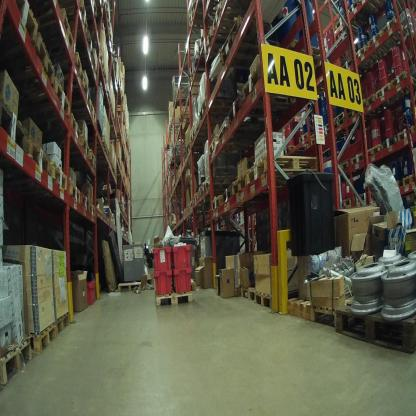pallet: (336, 295, 412, 358), (241, 61, 307, 112), (245, 151, 325, 191), (4, 31, 61, 87), (220, 28, 288, 74), (227, 88, 296, 130), (217, 8, 269, 55), (11, 79, 73, 118), (1, 318, 33, 392), (40, 4, 78, 59), (218, 117, 277, 151), (1, 95, 29, 158), (1, 1, 40, 44), (202, 28, 234, 74), (31, 307, 59, 359), (207, 132, 265, 157), (188, 120, 231, 151), (308, 292, 339, 334), (207, 0, 245, 34), (55, 48, 87, 88), (41, 113, 84, 142), (353, 42, 389, 75), (373, 82, 410, 110), (24, 136, 49, 177), (280, 291, 313, 322), (363, 28, 395, 59), (197, 98, 237, 122), (71, 94, 99, 128), (380, 15, 407, 48), (336, 14, 366, 43), (157, 289, 194, 311), (391, 69, 415, 102), (46, 158, 67, 193), (203, 173, 235, 195), (60, 134, 90, 157), (347, 1, 383, 20), (361, 84, 382, 115), (85, 52, 103, 85), (64, 169, 80, 206), (62, 2, 88, 24), (233, 169, 250, 202), (398, 165, 416, 196), (341, 57, 367, 78), (57, 310, 75, 340), (363, 135, 383, 162), (190, 3, 207, 33), (254, 289, 275, 313), (187, 67, 211, 86), (382, 132, 399, 158), (397, 122, 415, 146), (76, 29, 95, 51), (238, 278, 255, 302), (89, 137, 107, 158), (283, 145, 310, 159), (345, 106, 360, 130), (195, 41, 206, 73), (223, 185, 236, 212), (337, 154, 350, 179), (351, 148, 366, 169), (79, 188, 90, 215), (328, 110, 348, 124), (316, 121, 332, 138), (332, 117, 346, 134), (178, 108, 192, 125), (118, 282, 142, 291), (350, 192, 369, 203), (212, 195, 223, 213), (310, 128, 322, 143), (170, 156, 184, 168), (300, 130, 311, 145), (90, 145, 96, 171), (344, 190, 353, 207), (192, 189, 198, 211), (198, 184, 205, 202), (188, 198, 195, 216), (320, 130, 332, 140), (90, 203, 98, 217), (182, 206, 189, 222), (167, 165, 183, 172), (311, 138, 320, 149)
small_load_carrier: (153, 243, 173, 276), (81, 276, 99, 311), (173, 267, 194, 295), (172, 241, 194, 267), (154, 265, 173, 295)
